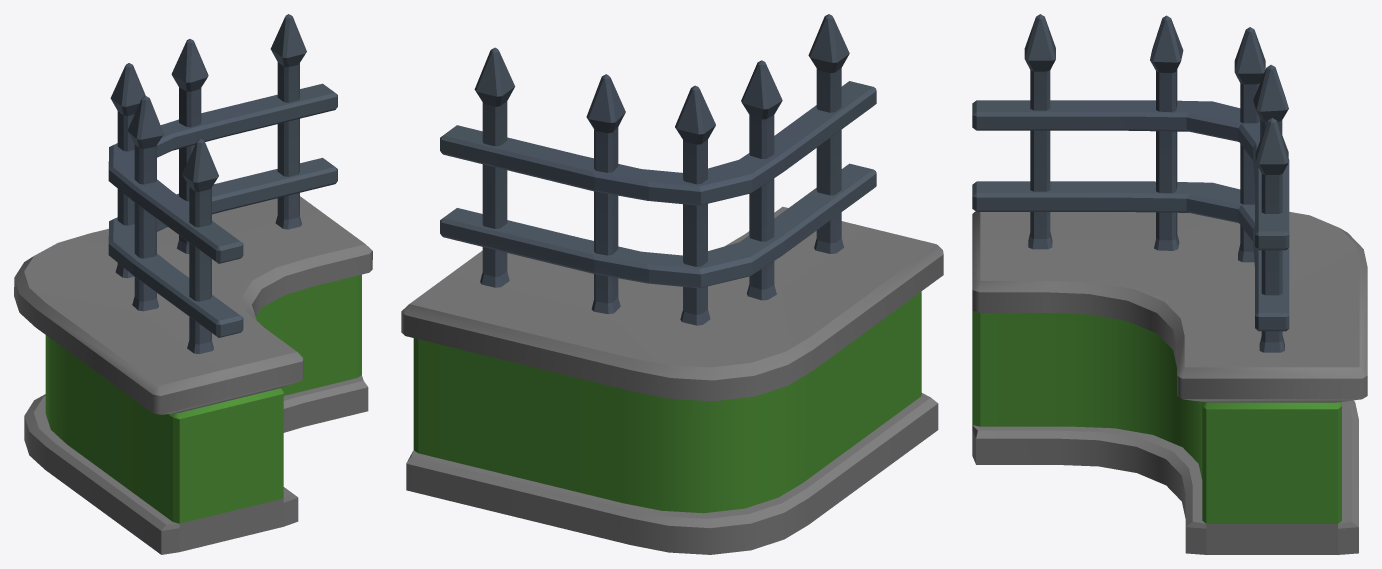
The model's file is BrickWall_5_1.fbx.
3 renders of one model, left to right at view 1: azimuth 30°, elevation 25°; view 2: azimuth 150°, elevation 25°; view 3: azimuth 270°, elevation 25°, orthographic. The views are drawn at different scales.
Parts seen in each view (by area): view 1: BrickWall_5_1; view 2: BrickWall_5_1; view 3: BrickWall_5_1.
Part boxes in pixels (left/top/right/bottom): BrickWall_5_1: left=14, top=14, right=372, bottom=554; BrickWall_5_1: left=401, top=14, right=943, bottom=554; BrickWall_5_1: left=972, top=14, right=1367, bottom=554.
Size of the model in its own units: 132 by 152 by 132.
